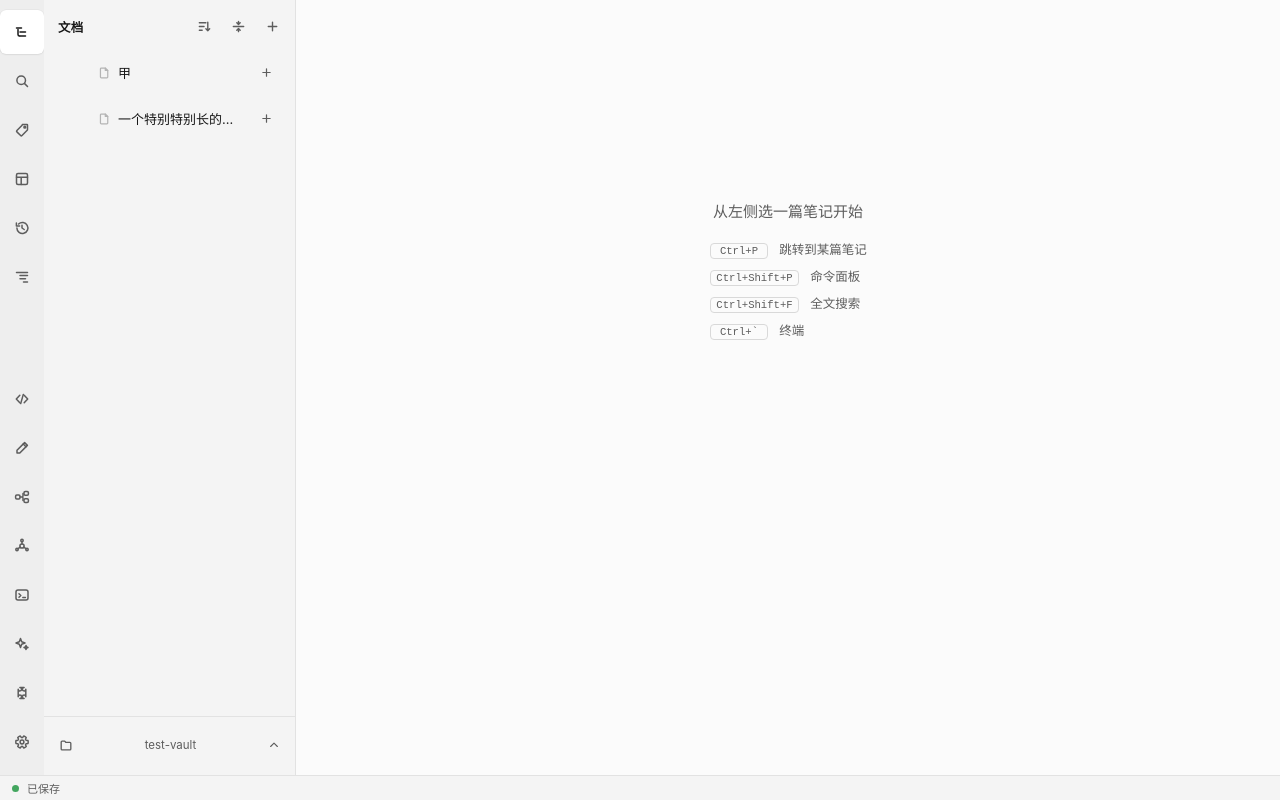
Test case: 文档图标 › 面包屑上的图标是设图标的主入口，点它弹同一个面板
Click the button with class "tree-label" showing "甲".
click(170, 72)  # box [94,50,247,94]
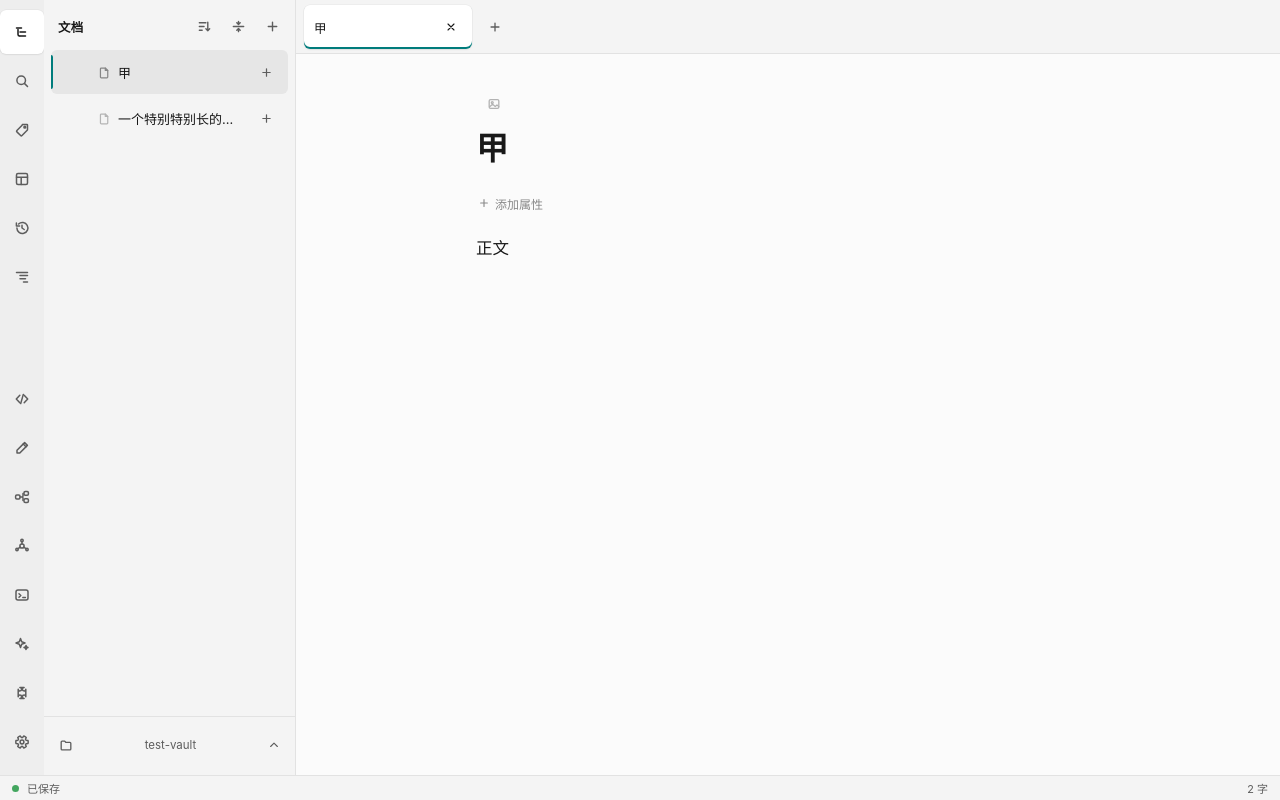
Now the button with class "crumb-icon" is shown
Click the button with class "crumb-icon".
click(494, 104)  # box [478,88,510,120]
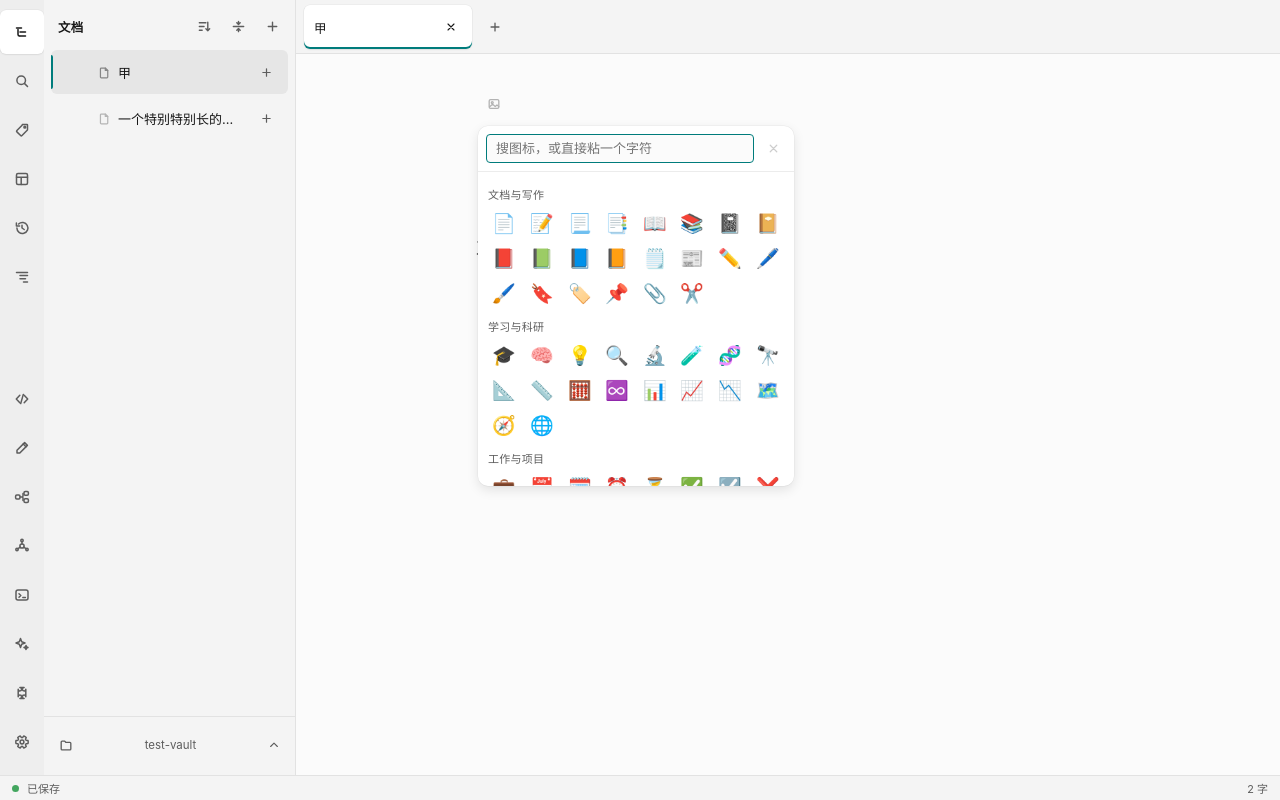
Now the dialog with class "icon-picker" is shown, box [478,126,794,486]
Click the button with class "icon-cell" showing "📗".
click(542, 258)  # box [524,241,560,275]
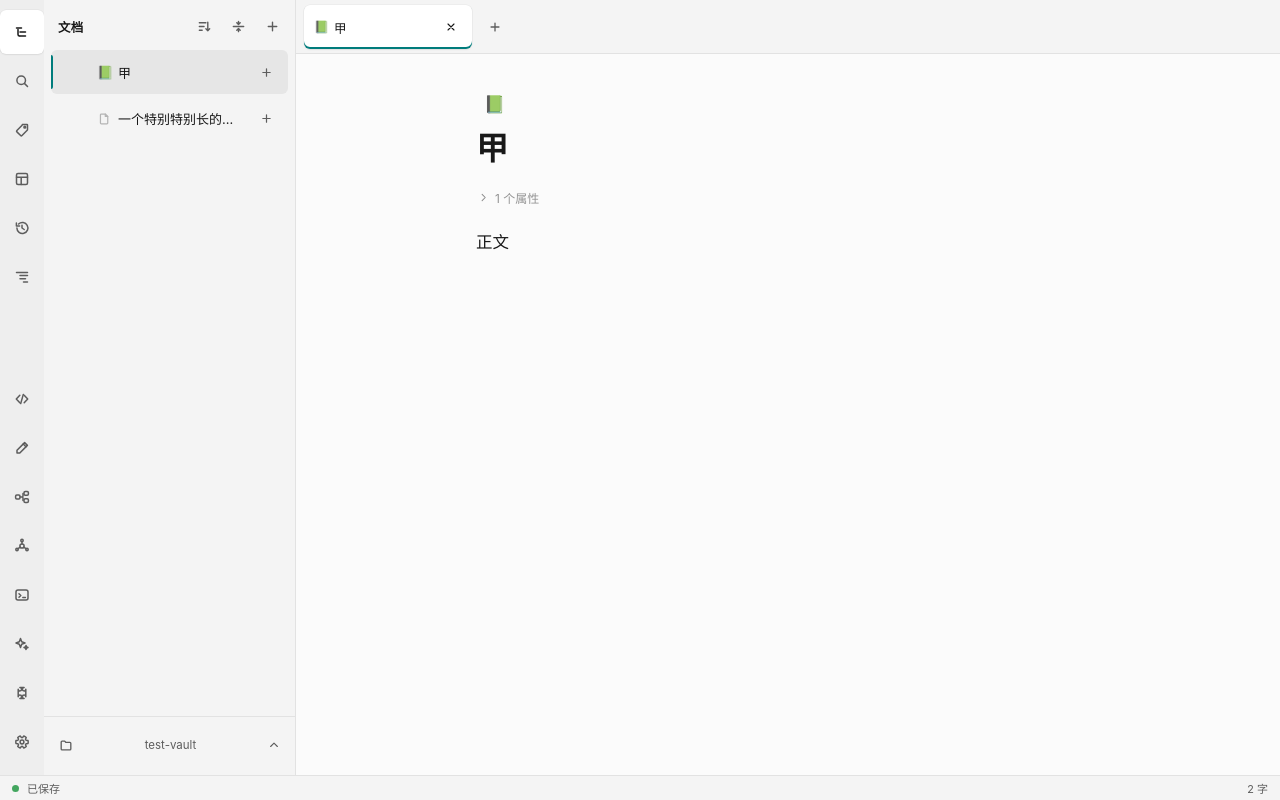
Now the button with class "crumb-icon" reads "📗", box [478,88,510,120]
